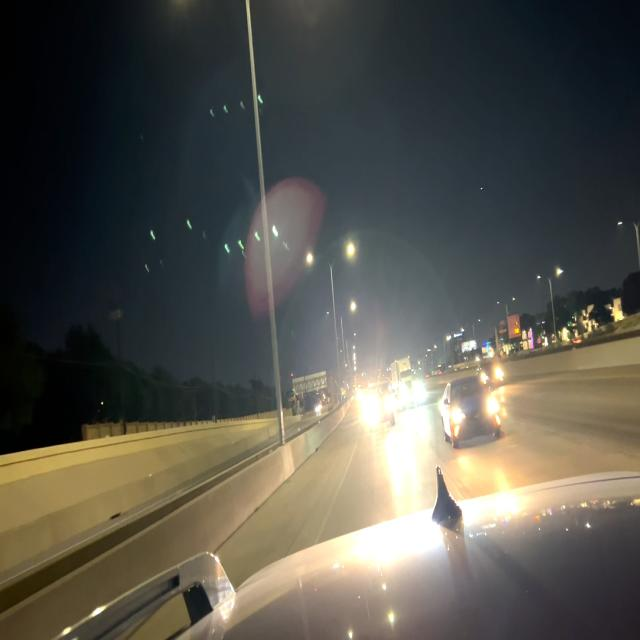back-of-sign: (292, 370, 328, 401)
